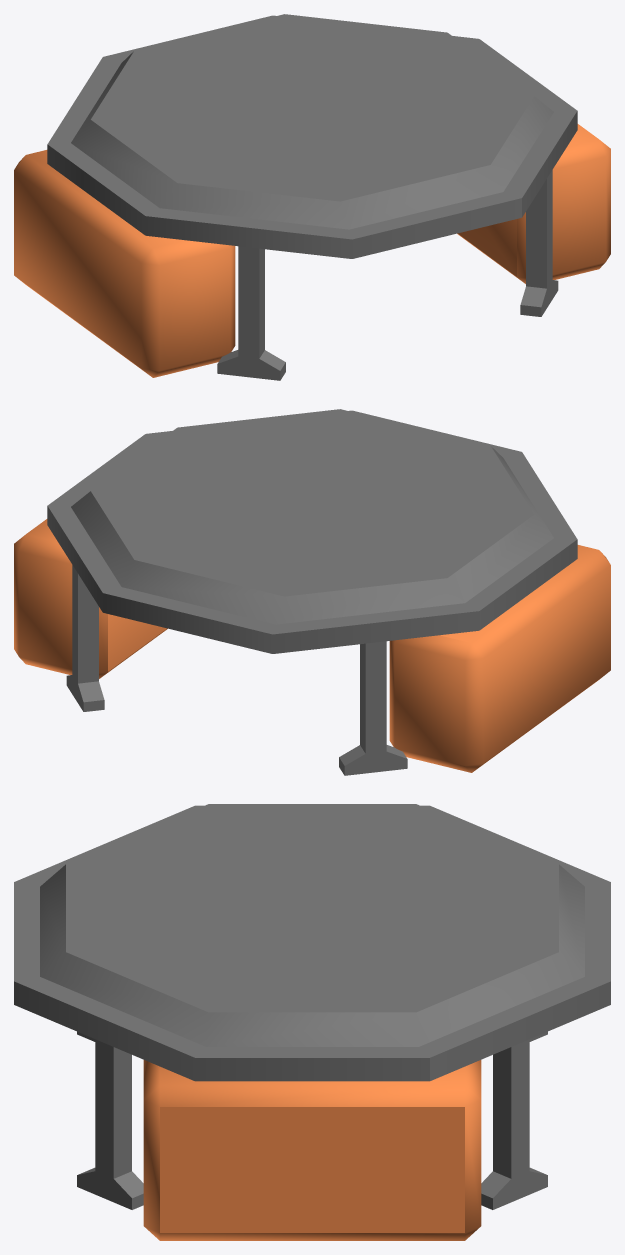
The model's file is SpotSmall.fbx.
The picture shows the model from 3 angles, top to bottom: view 1: azimuth 30°, elevation 25°; view 2: azimuth 150°, elevation 25°; view 3: azimuth 270°, elevation 25°; orthographic projection. The views are drawn at different scales.
Visible parts, largest first — view 1: SpotSmall; view 2: SpotSmall; view 3: SpotSmall.
Boxes of the visible parts, x1,y1,x2,y2 form: SpotSmall: [14, 14, 610, 380]; SpotSmall: [14, 409, 610, 775]; SpotSmall: [14, 804, 610, 1240].
Size of the model in its own units: 2.5 by 0.8607 by 2.3.
